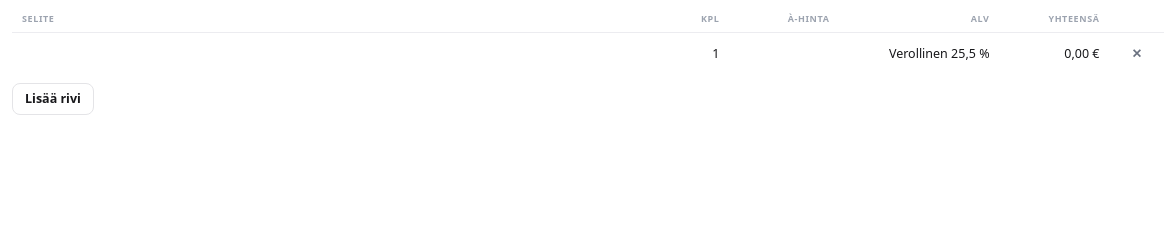
Test: LaskuriviTaulukko koodit-propti › ilman koodit-proppia käyttää myyntikoodeja (myyntikäyttö säilyy)
The image size is (1164, 225).
Click the button with aria-label "ALV, rivi 1" at [939, 54], box [889,45,990,63]
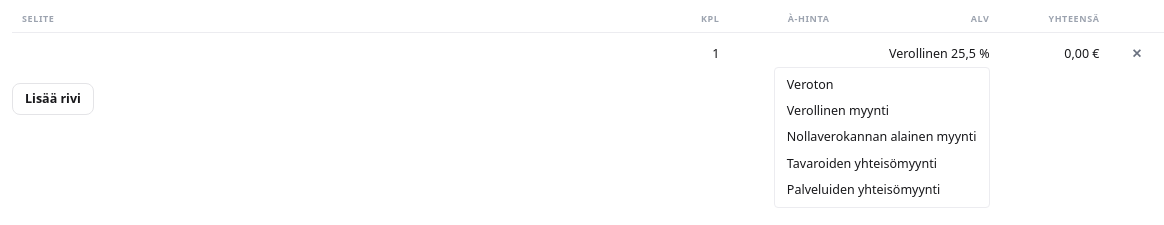
Check: the option "Verollinen myynti" is shown, box [779,98,985,124]
